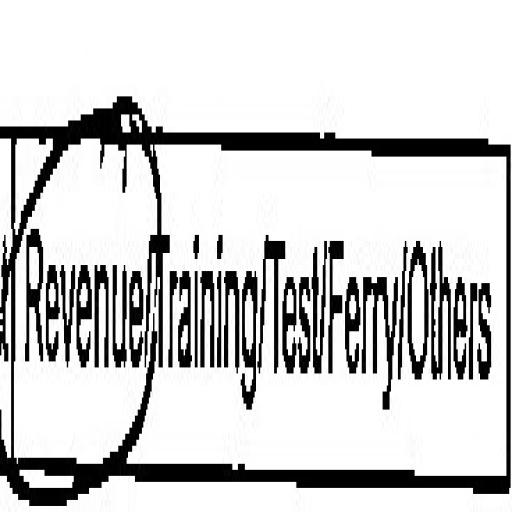check: (14, 0, 152, 512)
